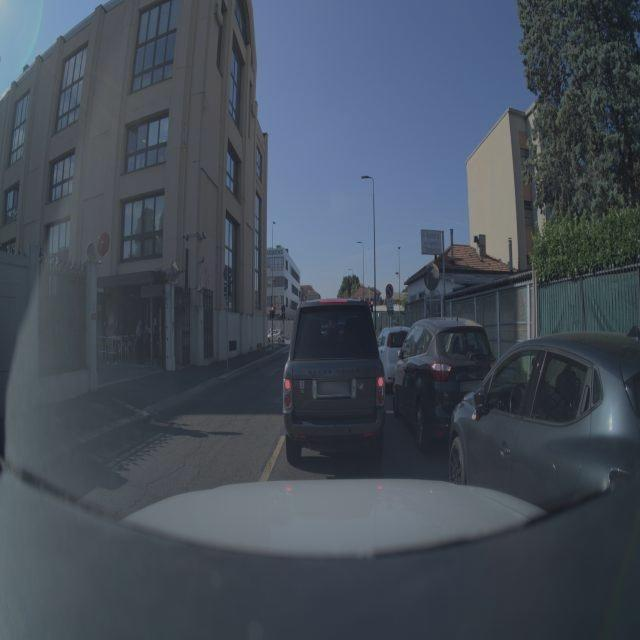Red: (270, 304, 276, 320)
